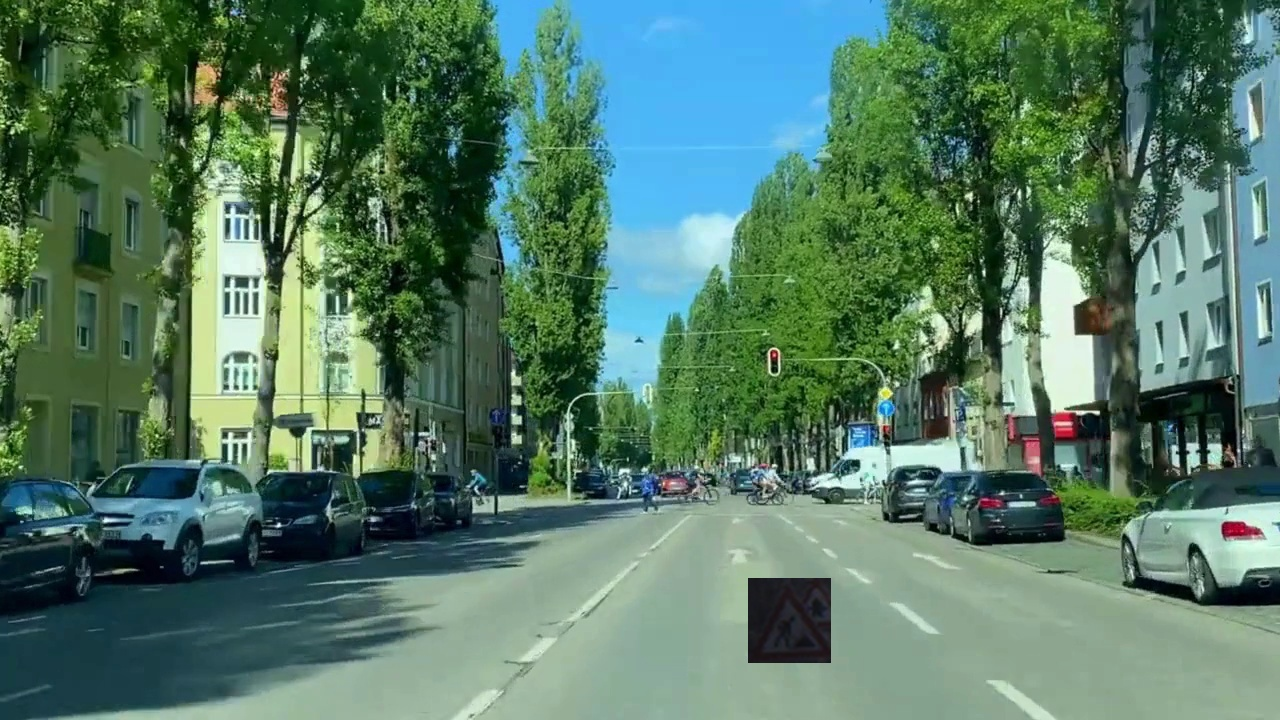Road work: (748, 578, 831, 663)
